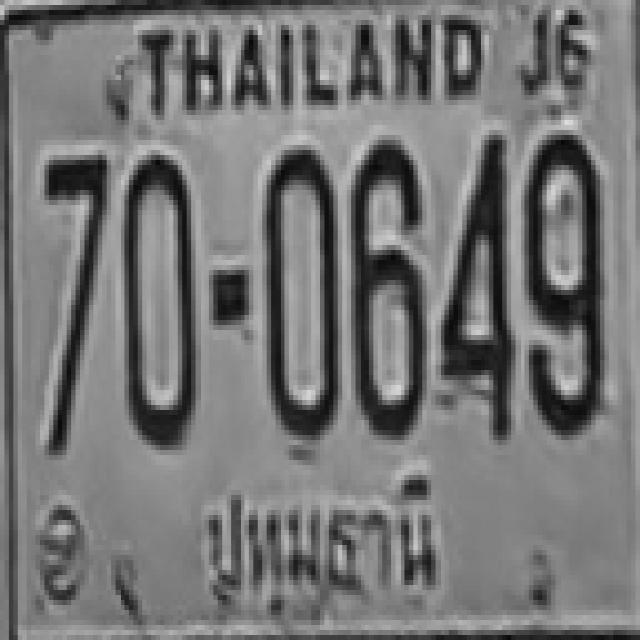0: (520, 130, 600, 320), (120, 152, 196, 348)
7: (40, 152, 107, 318)
9: (520, 210, 600, 430)
PathumThani: (184, 472, 455, 626)
